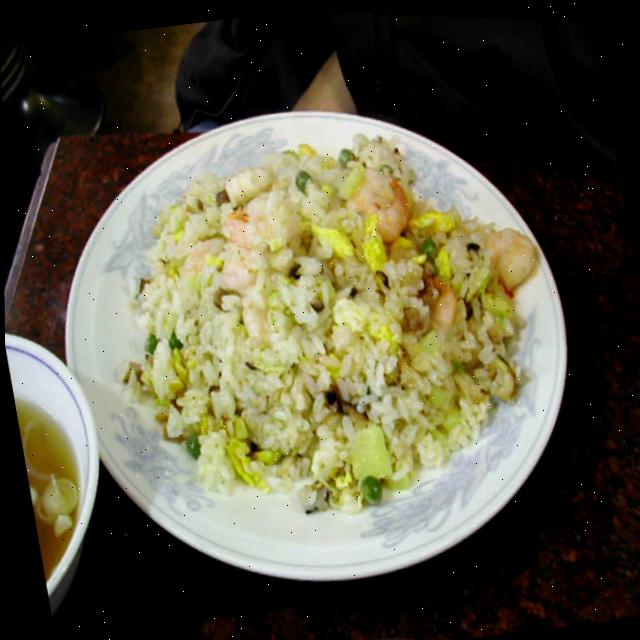米饭主食: (12, 62, 609, 639)
